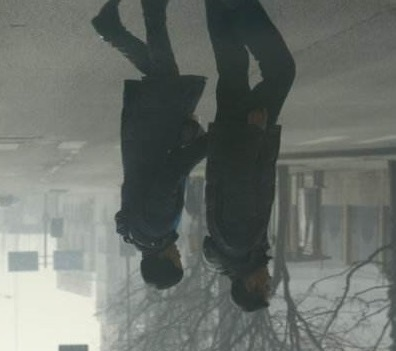person: (88, 1, 206, 294), (204, 1, 297, 312)
